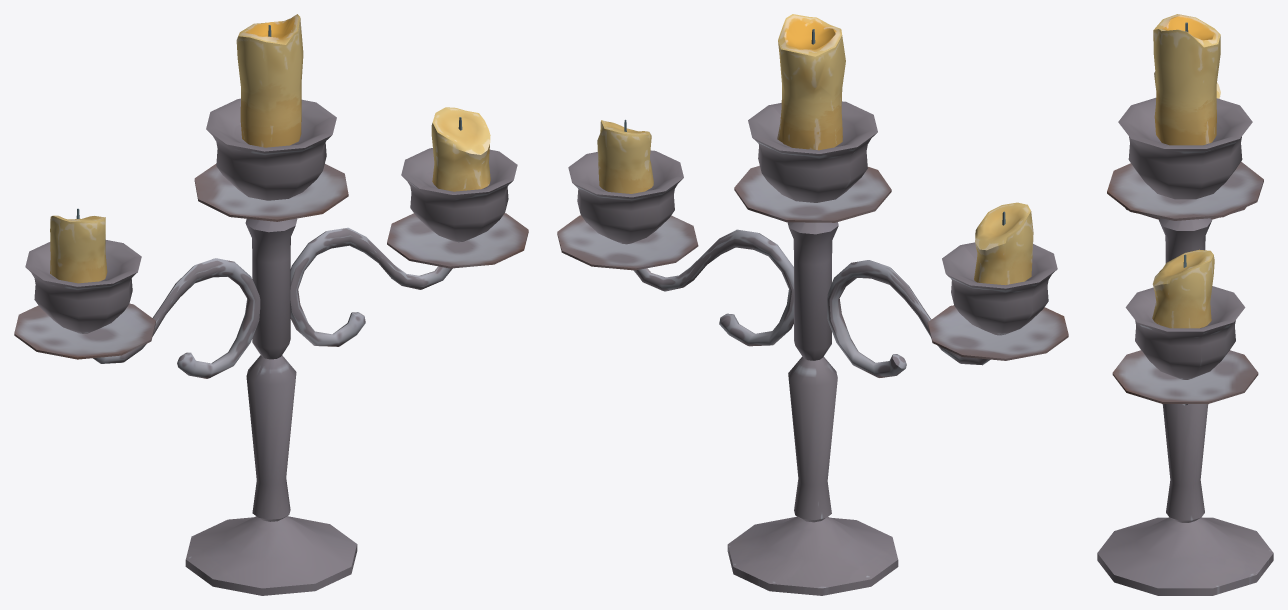
File: candlestick_triple.glb
3 renders of one model, left to right at view 1: azimuth 30°, elevation 25°; view 2: azimuth 150°, elevation 25°; view 3: azimuth 270°, elevation 25°, orthographic.
Parts seen in each view (by area): view 1: CandleStick_Triple; view 2: CandleStick_Triple; view 3: CandleStick_Triple.
Part boxes in pixels (box(x1,y1,x2,y2)): CandleStick_Triple: box(14, 14, 528, 595); CandleStick_Triple: box(557, 14, 1068, 595); CandleStick_Triple: box(1097, 14, 1273, 595).
Bounding box in the file's own units: 0.4423 × 0.4633 × 0.1364.
2 materials, 2 textured.
